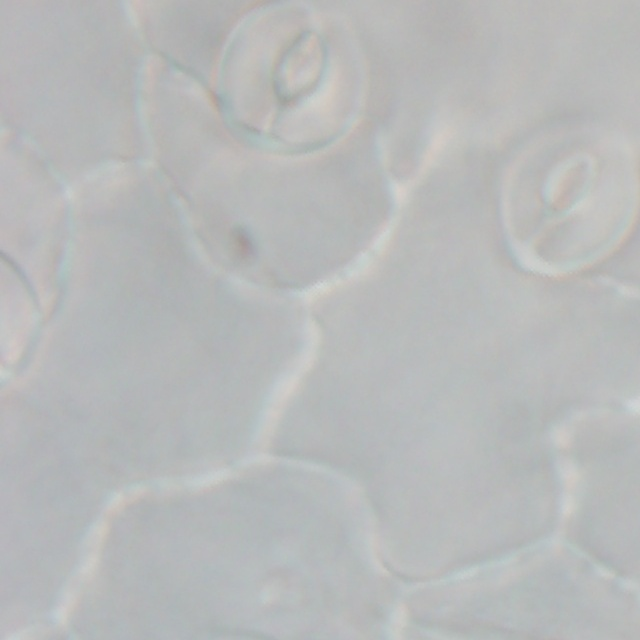center: (274, 30, 326, 104), (541, 155, 595, 220), (0, 316, 50, 322)
stomata-huw1: (217, 2, 366, 154), (499, 120, 637, 273), (0, 253, 41, 385)
